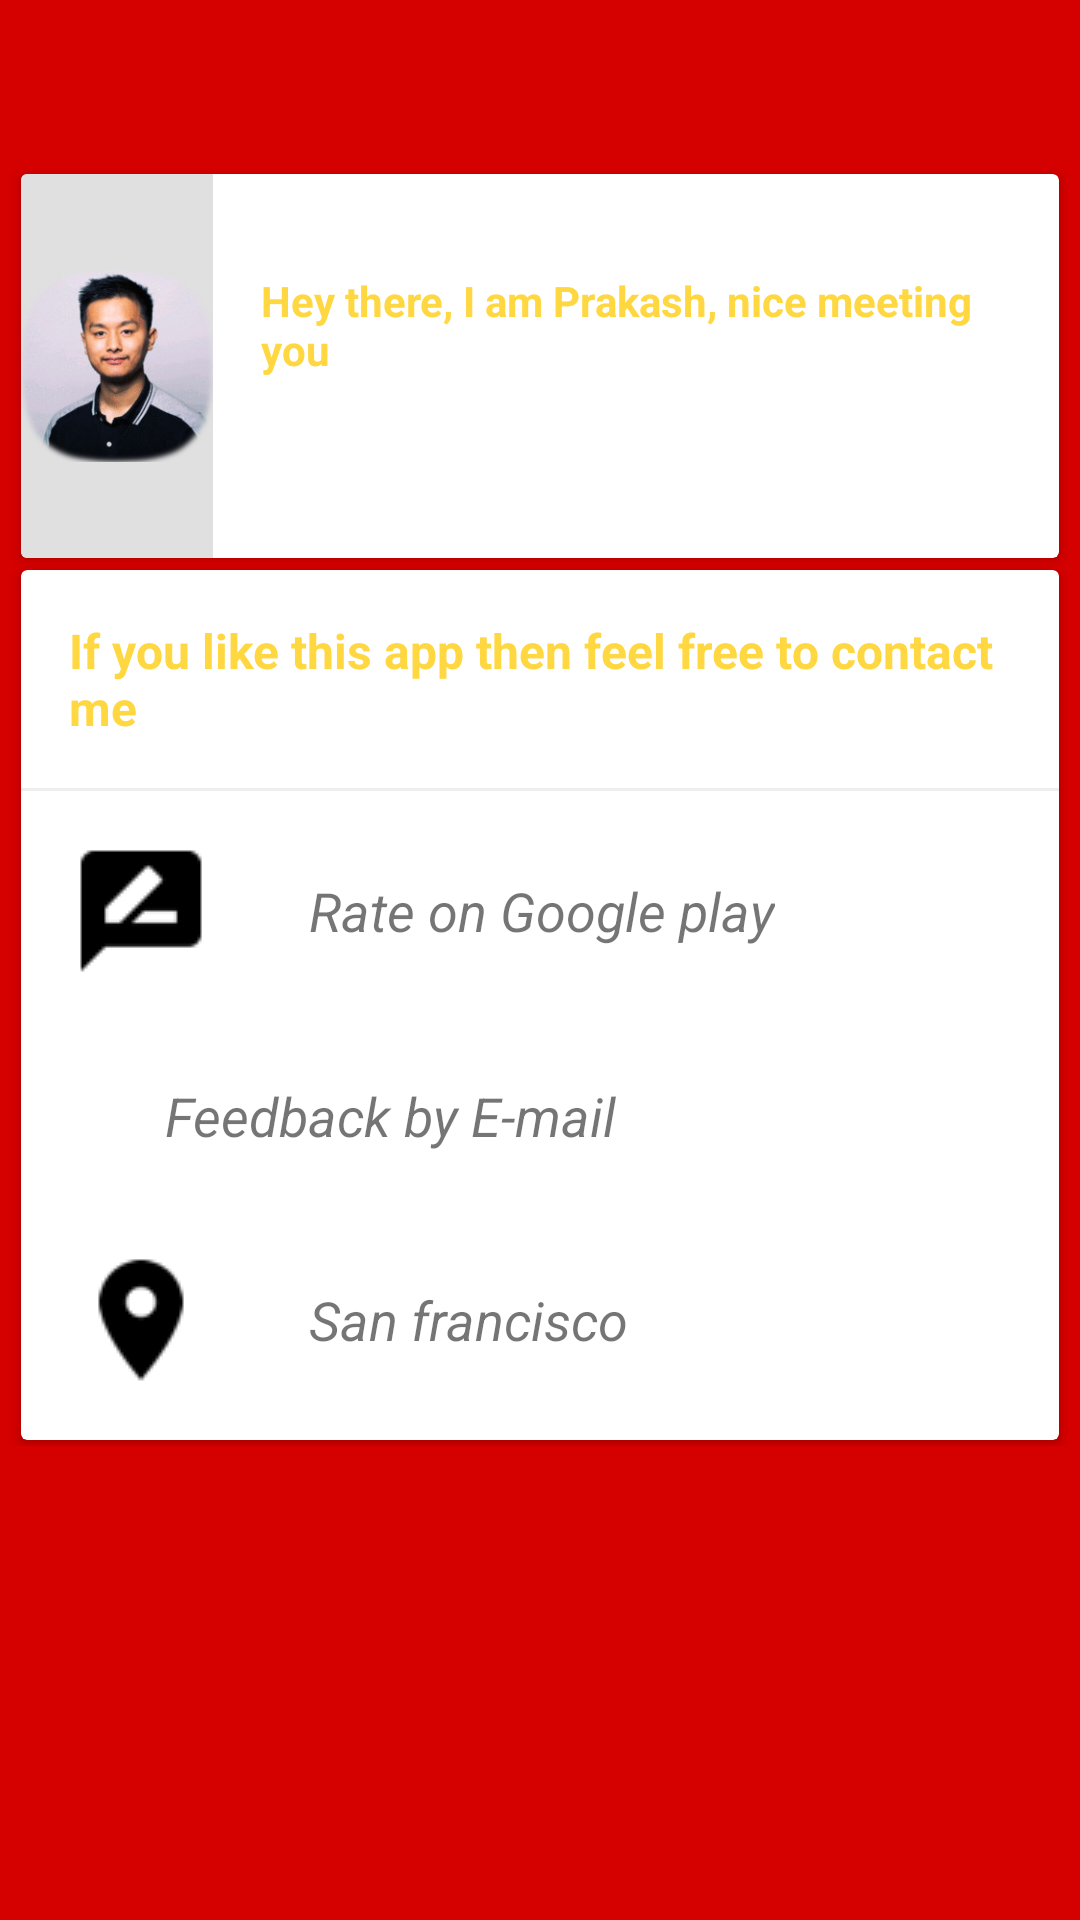

Named icons in this screenshot (1080*1920) and their centers, (x=x, y=y):
location on: (x=141, y=1320)
rate review: (x=141, y=911)
